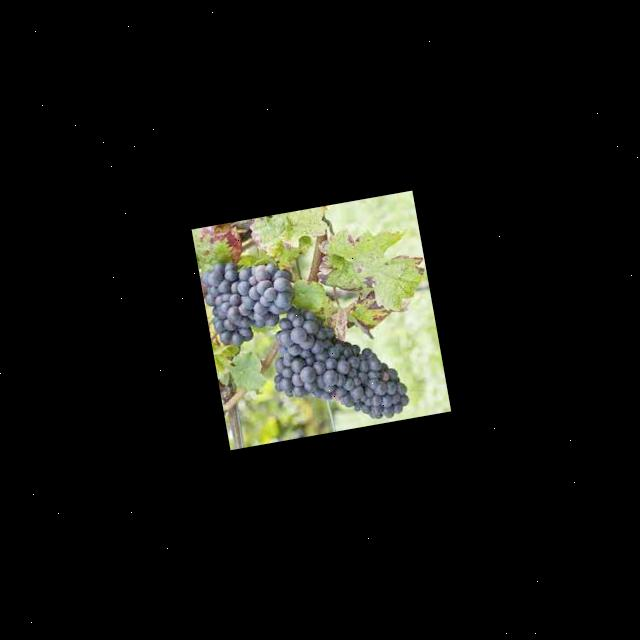grape: (259, 290, 411, 438), (197, 250, 301, 350)
